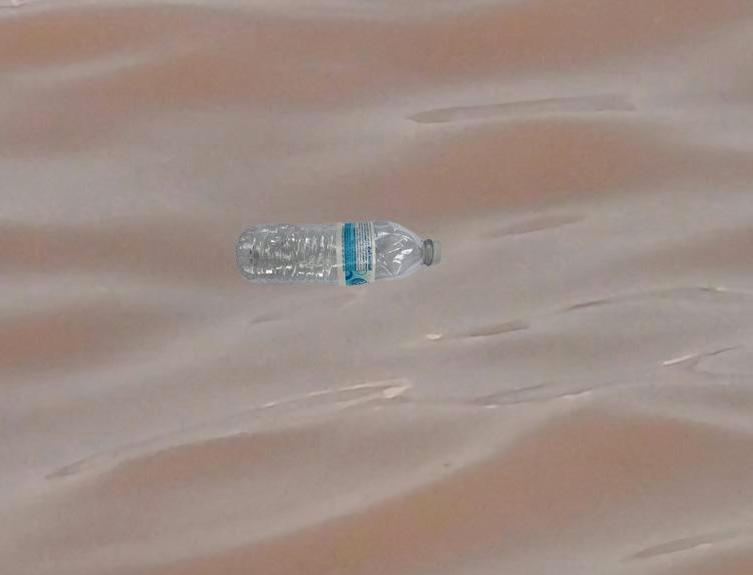Plastic: (237, 215, 446, 288)
